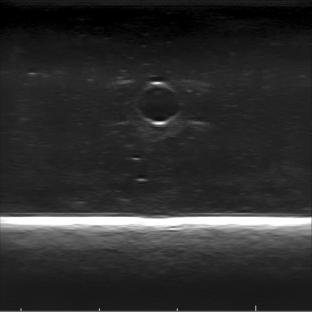vessel: (134, 81, 182, 126)
